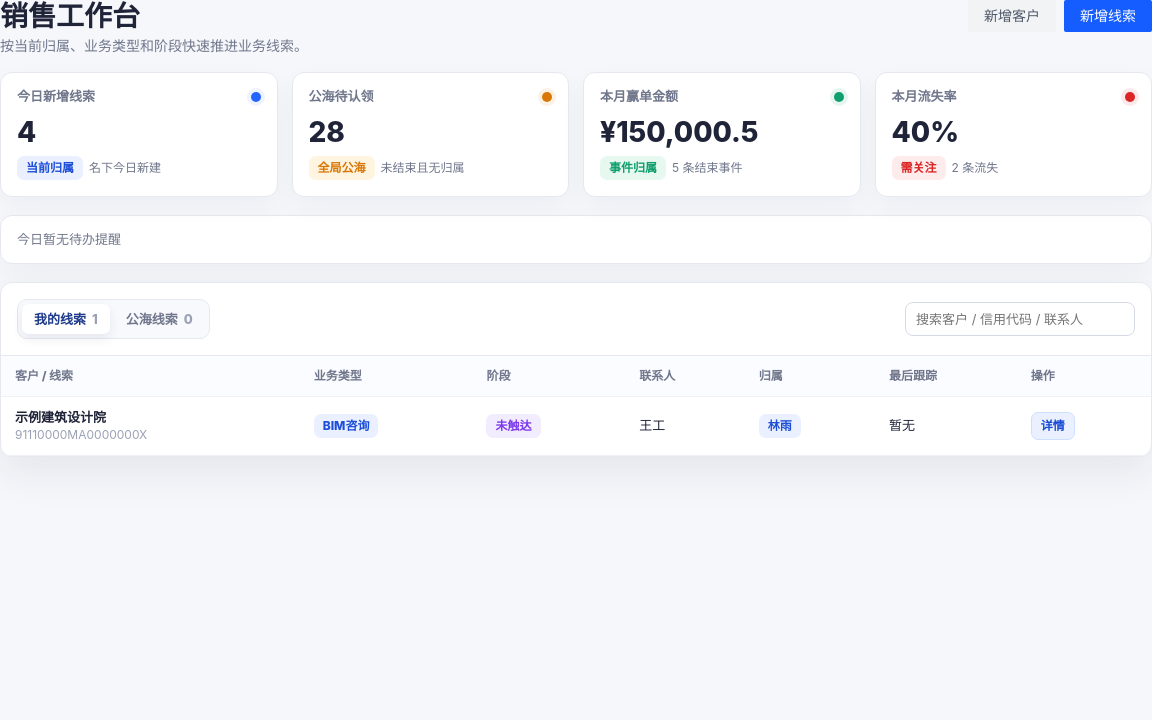
Scenario: 右侧详情面板 › 点击表格线索在右侧面板渲染 LeadDetailPanel
Click the button with class "lead-link": (81, 426) [15,410,147,442]
(page scrolled)
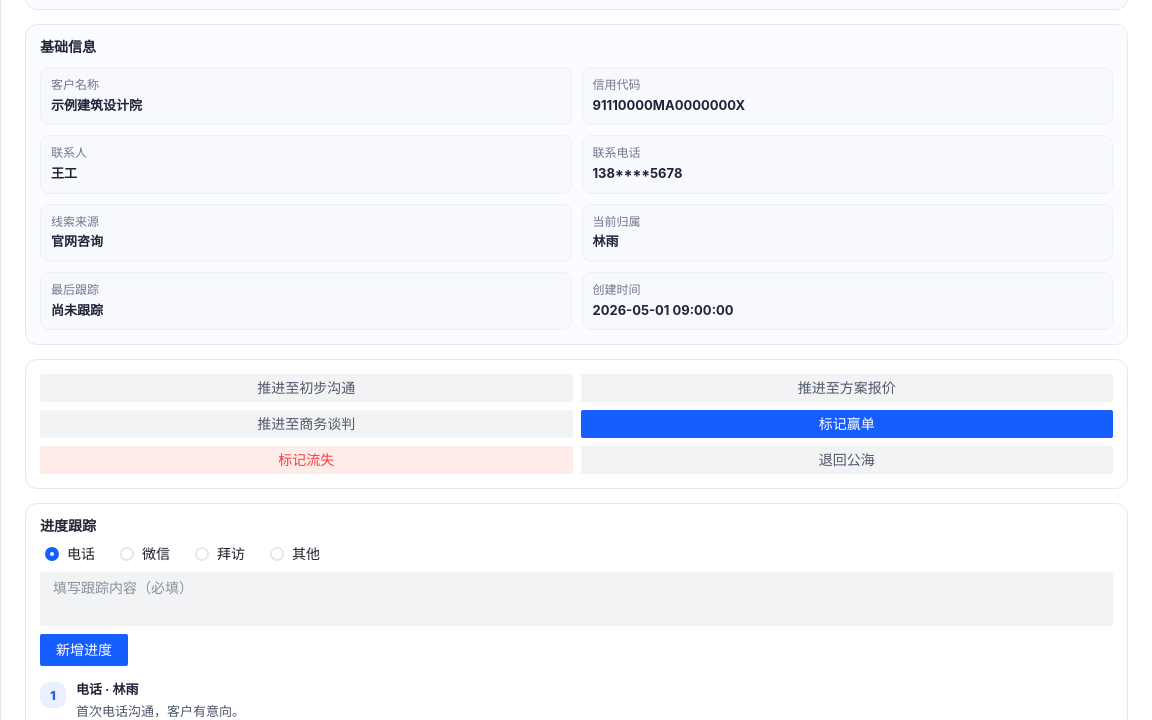
Now the element with class "detail-desc" is shown, box [25,24,1128,345]
